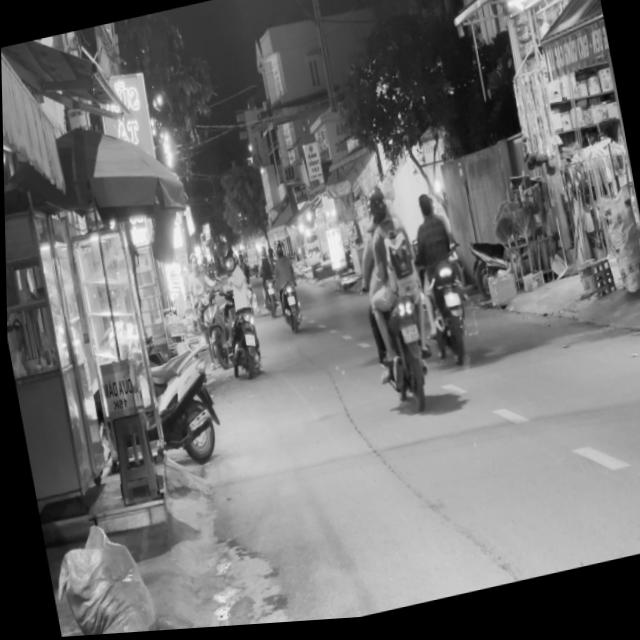helmet: (365, 188, 389, 228), (221, 246, 236, 272)
licenseplate: (343, 181, 440, 422), (402, 188, 475, 376), (209, 241, 266, 384)
motorcyclist: (416, 194, 435, 223)
nohelmet: (399, 327, 417, 346), (442, 295, 458, 312), (242, 335, 254, 348)
